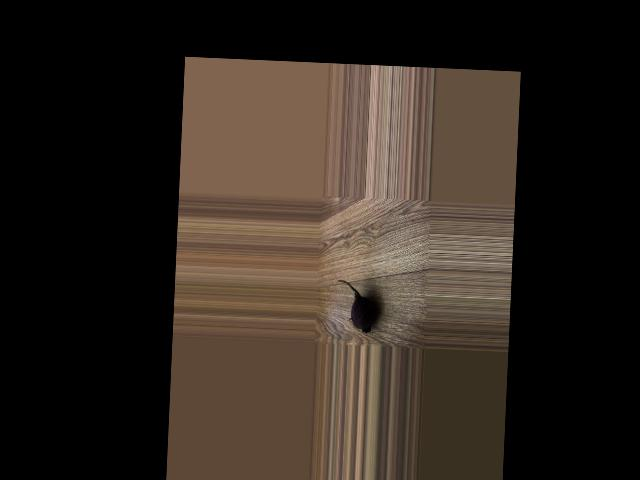beet: (335, 278, 376, 332)
